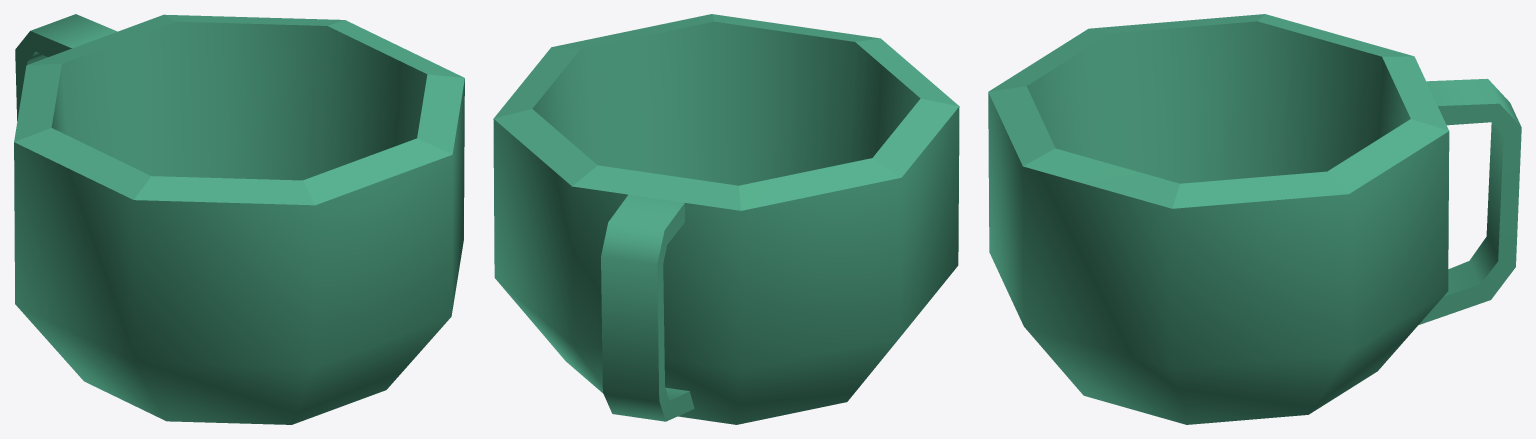
Rendered from Mug_1_B.fbx.
The picture shows the model from 3 angles, left to right: view 1: azimuth 30°, elevation 25°; view 2: azimuth 150°, elevation 25°; view 3: azimuth 270°, elevation 25°; orthographic projection.
Parts seen in each view (by area): view 1: Mug_1_B; view 2: Mug_1_B; view 3: Mug_1_B.
Boxes of the visible parts, left/top/right/bottom form: Mug_1_B: left=14, top=14, right=464, bottom=424; Mug_1_B: left=493, top=14, right=959, bottom=424; Mug_1_B: left=988, top=14, right=1521, bottom=424.
Size of the model in its own units: 14.83 by 9.06 by 17.16.
